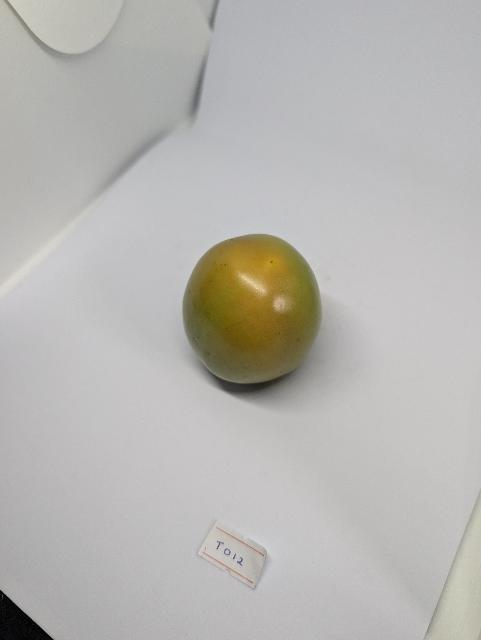breaker: (183, 234, 322, 384)
